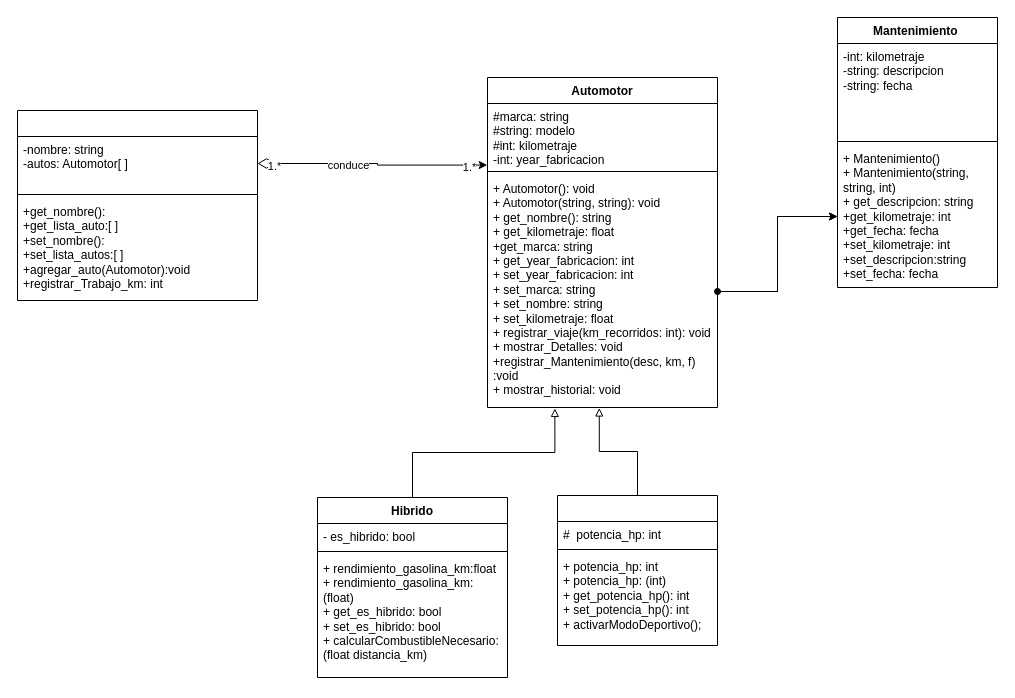
Some shapes in this 1015 by 698 pixel diagram are drawn without their labels. Here are the shapes that lost their labels. From the top down, the box of each, then its label:
(16, 110, 258, 300): Conductor
(556, 494, 718, 646): Personal
